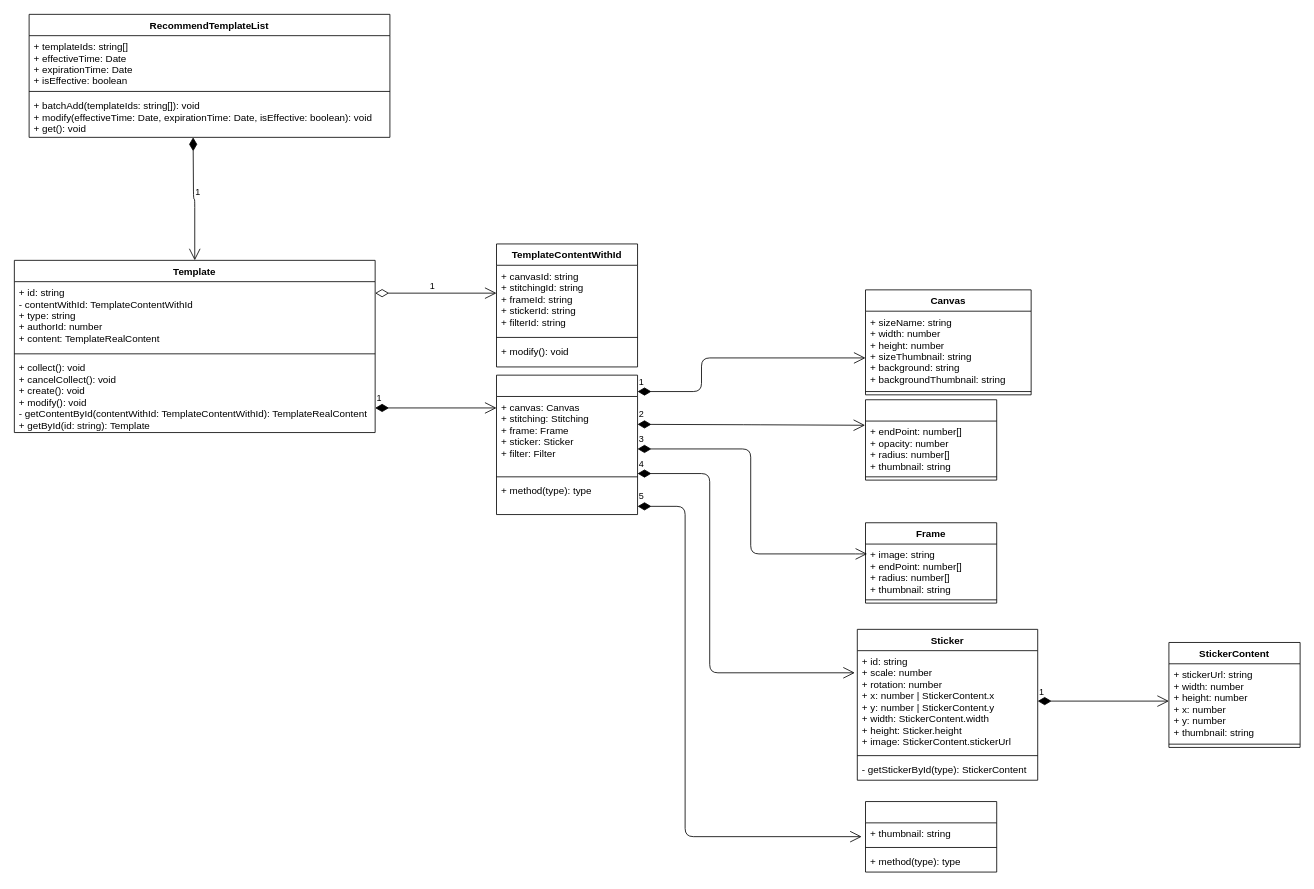
Image size: 1314x889. Some labels were removed from this diagram. The shapes that lost their labels are listed below. From the top down, each one's box as (x1, y1, x2, y2) in pixels, then its label:
(496, 374, 638, 515): TemplateRealContent
(865, 399, 997, 480): stitching
(865, 801, 997, 872): Filter
